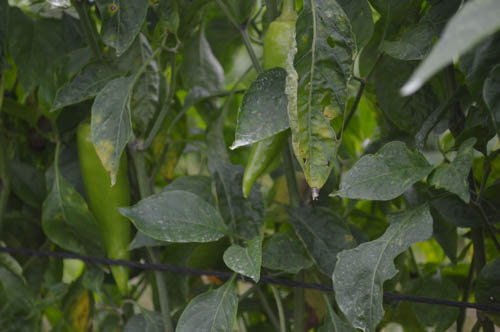ChiliPepper: (240, 24, 307, 201), (77, 124, 139, 298)
